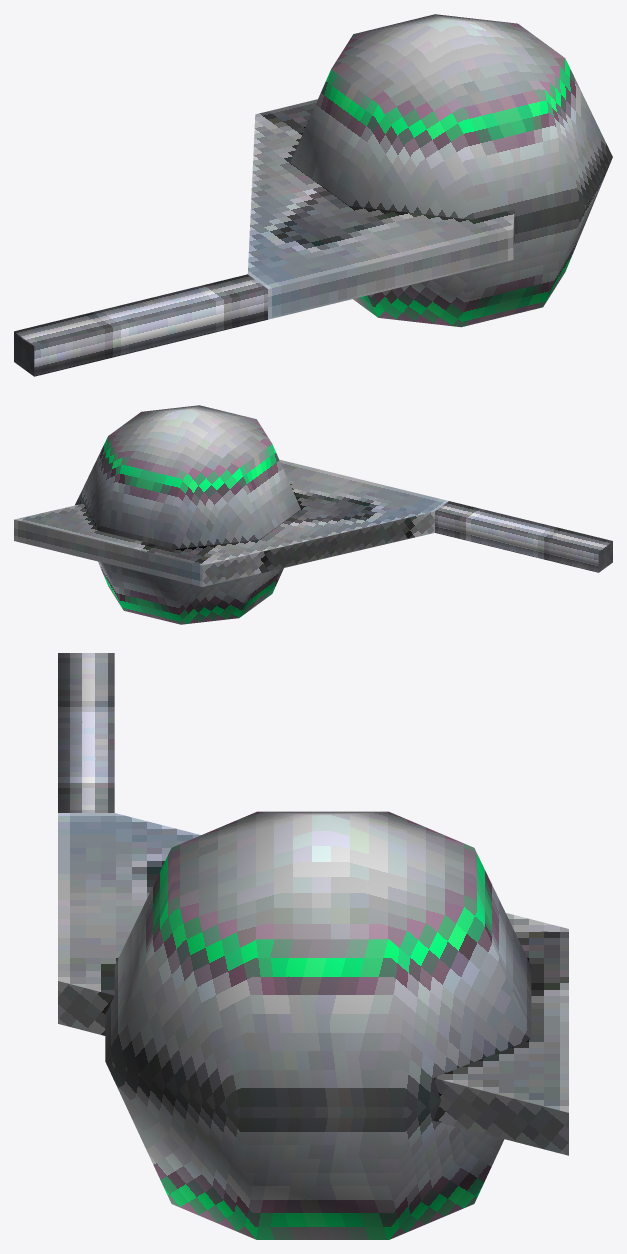
3 renders of one model, top to bottom at view 1: azimuth 30°, elevation 25°; view 2: azimuth 150°, elevation 25°; view 3: azimuth 270°, elevation 25°, orthographic. The views are drawn at different scales.
Parts seen in each view (by area): view 1: polySurface5; view 2: polySurface5; view 3: polySurface5.
Part boxes in pixels (x1,y1,x2,y2): polySurface5: [14, 14, 612, 376]; polySurface5: [14, 405, 612, 624]; polySurface5: [58, 653, 568, 1239].
Size of the model in its own units: 11.5 by 4.9 by 5.4.
1 material, 1 textured.
